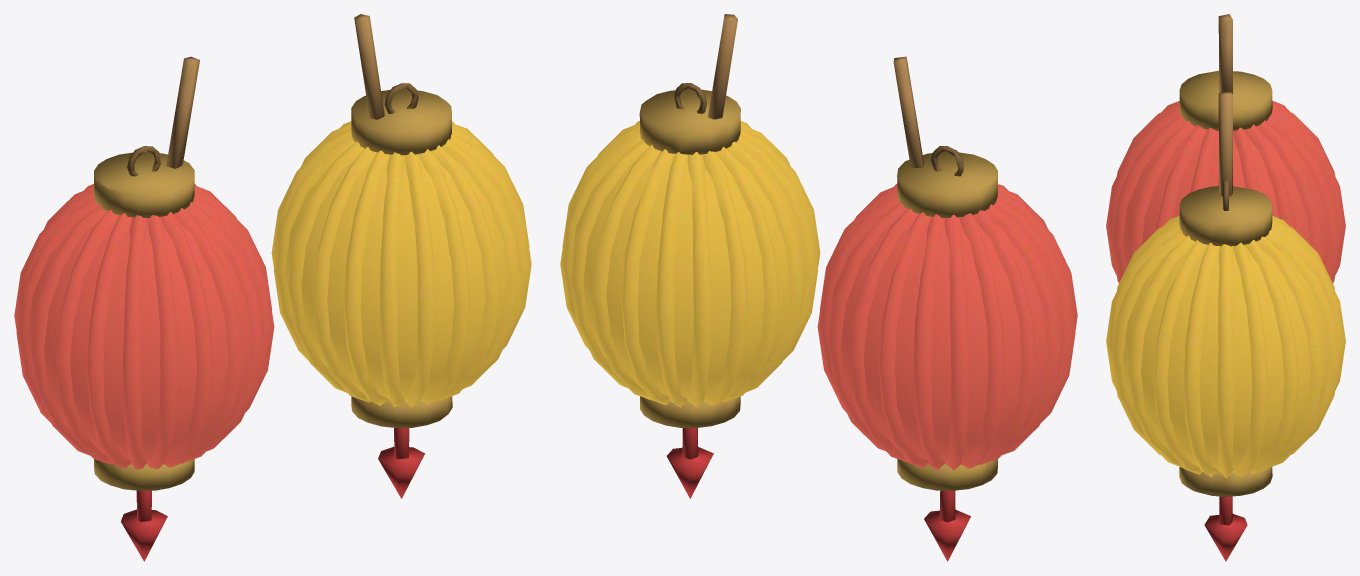
Rendered from keepsake-two-lanterns.glb.
3 renders of one model, left to right at view 1: azimuth 30°, elevation 25°; view 2: azimuth 150°, elevation 25°; view 3: azimuth 270°, elevation 25°, orthographic. The views are drawn at different scales.
Parts seen in each view (by area): view 1: keepsake-two-lanterns; view 2: keepsake-two-lanterns; view 3: keepsake-two-lanterns.
Boxes of the visible parts, x1=… form: keepsake-two-lanterns: x1=14, y1=14, x2=531, y2=561; keepsake-two-lanterns: x1=560, y1=14, x2=1077, y2=561; keepsake-two-lanterns: x1=1106, y1=14, x2=1345, y2=561.
Size of the model in its own units: 0.2571 by 0.25 by 0.1203.
2 materials, 2 textured.
